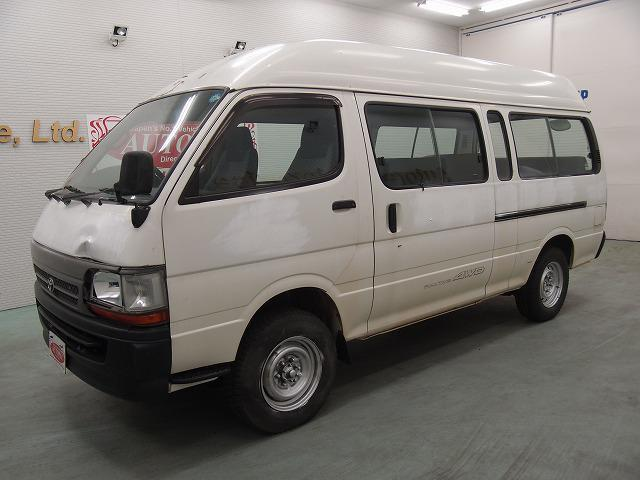Van: (33, 40, 611, 410)
